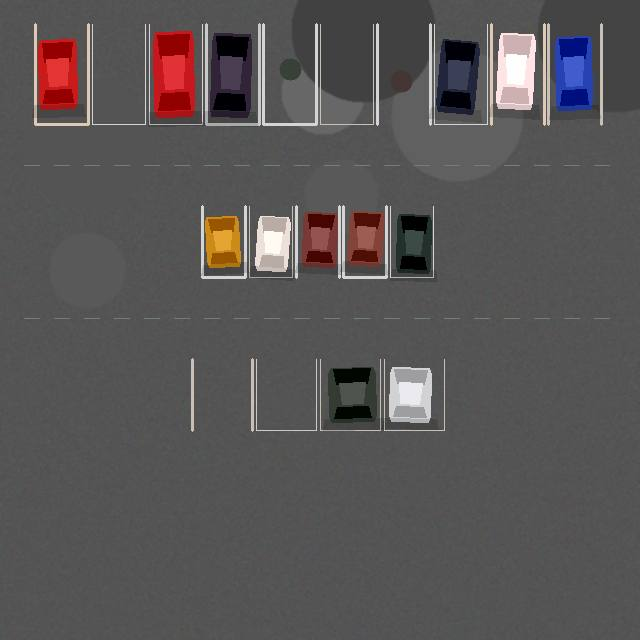space-empty: (92, 24, 145, 124), (263, 24, 316, 124), (320, 24, 373, 124), (377, 24, 430, 124), (192, 359, 252, 430), (256, 359, 316, 430)
space-occupied: (35, 24, 88, 124), (149, 24, 202, 124), (206, 24, 259, 124), (434, 24, 487, 124), (491, 24, 544, 124), (548, 24, 601, 124), (320, 359, 380, 430), (384, 359, 444, 430), (202, 206, 245, 277), (249, 206, 292, 277), (296, 206, 339, 277), (343, 206, 386, 277), (390, 206, 433, 277)
